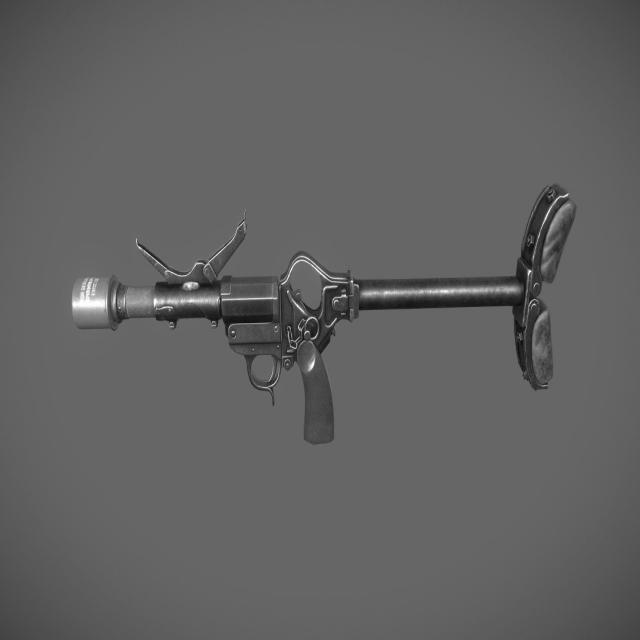Lancher: (42, 136, 600, 484)
